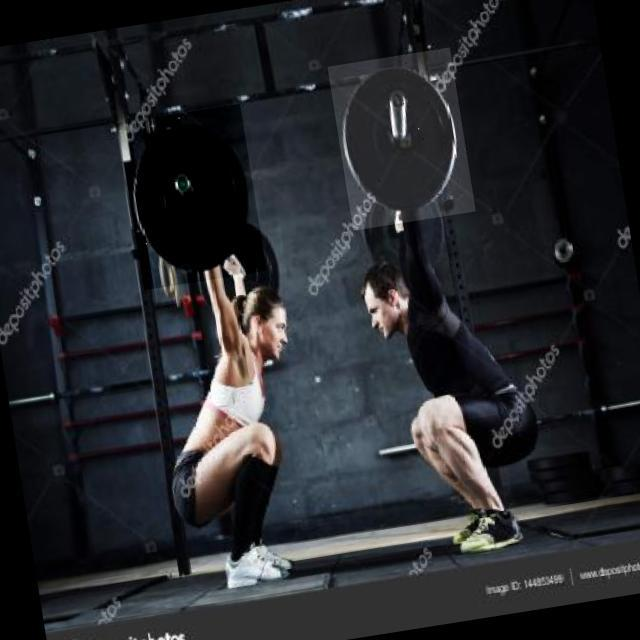barbell: (119, 105, 268, 291), (328, 49, 477, 232)
